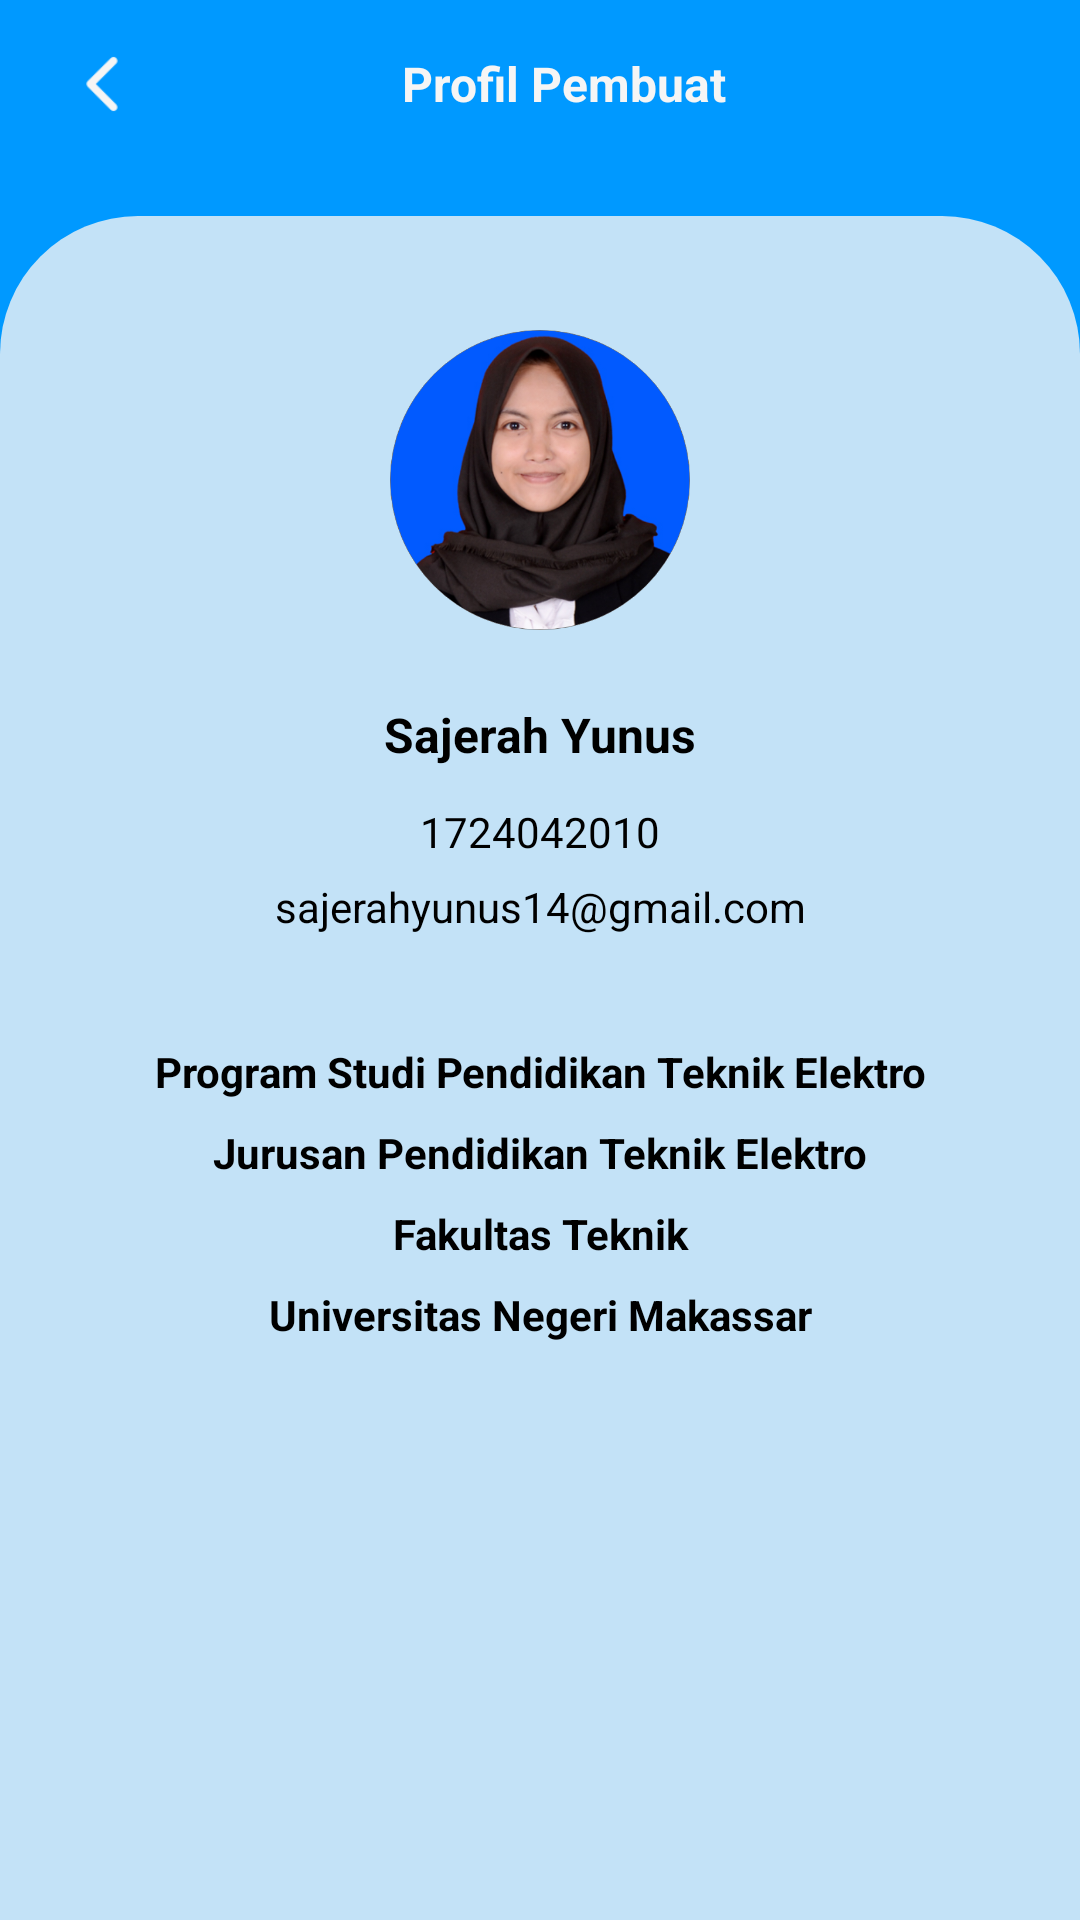

Screen size 1080x1920. Icon name, then its box in pixels as bbox(x1, y1, x2, y2):
arrow back: bbox(86, 57, 118, 111)
